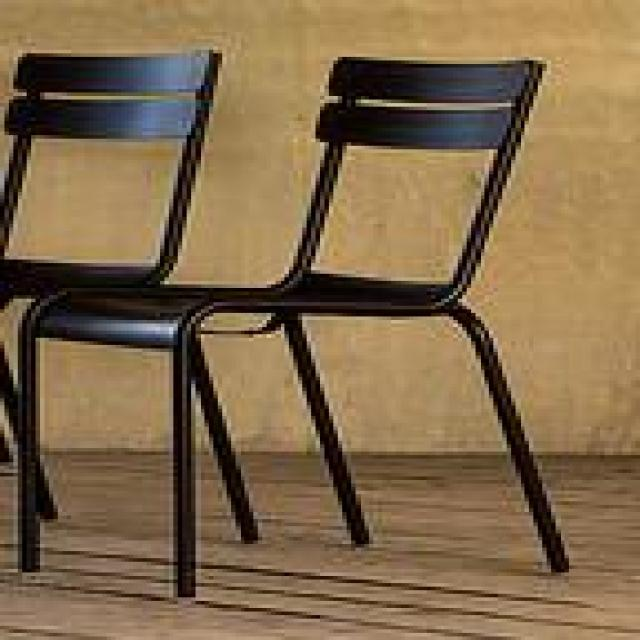chair: (20, 55, 573, 596)
